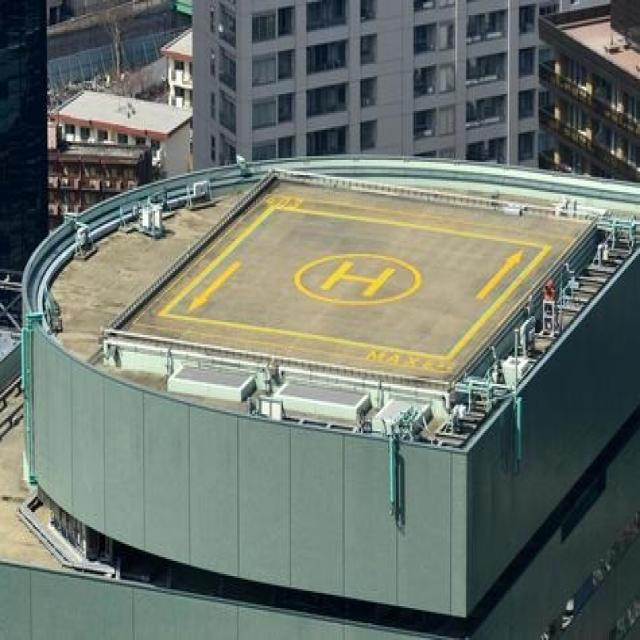helipad: (291, 243, 422, 305)
